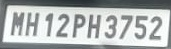character: (9, 11, 24, 36), (24, 11, 39, 36), (86, 13, 101, 38), (118, 13, 132, 39), (134, 15, 148, 39), (148, 16, 162, 40), (71, 14, 85, 37), (55, 13, 68, 37), (104, 15, 117, 39), (43, 12, 53, 36)
